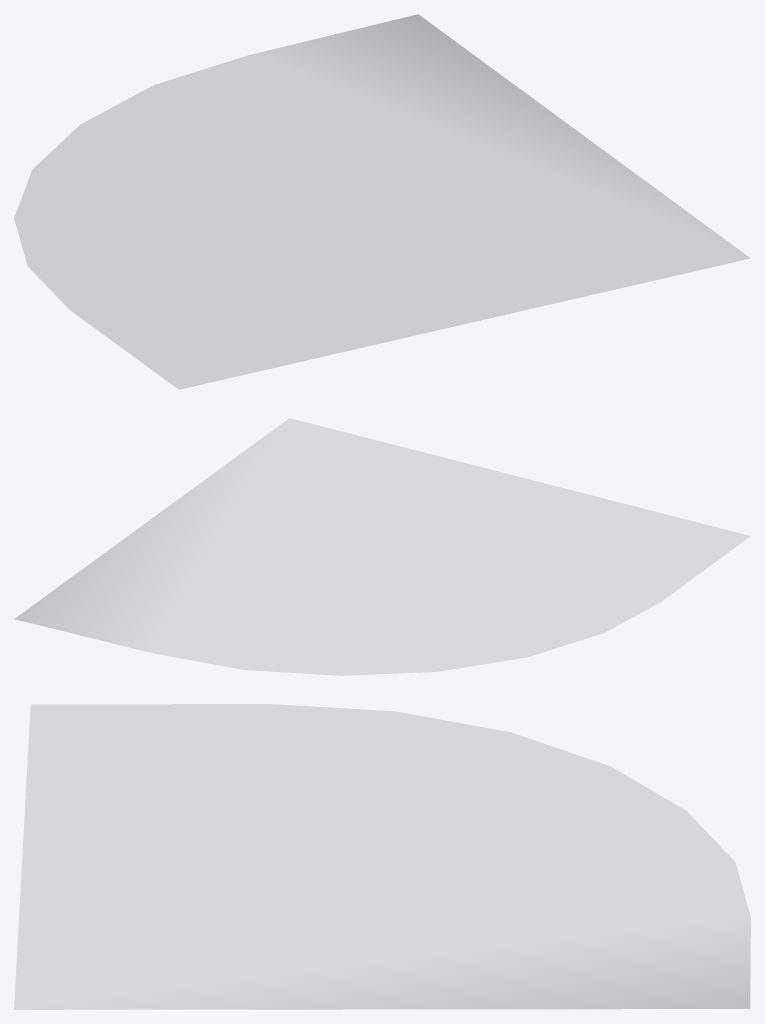
3 renders of one model, top to bottom at view 1: azimuth 30°, elevation 25°; view 2: azimuth 150°, elevation 25°; view 3: azimuth 270°, elevation 25°, orthographic. The views are drawn at different scales.
Parts seen in each view (by area): view 1: Joint_0_Object_0; view 2: Joint_0_Object_0; view 3: Joint_0_Object_0.
Boxes of the visible parts, <box> form: Joint_0_Object_0: <box>14,14,749,389</box>; Joint_0_Object_0: <box>15,418,749,675</box>; Joint_0_Object_0: <box>14,704,750,1009</box>.
Size of the model in its own units: 1855 by 2.5 by 1895.
1 material, 1 textured.
